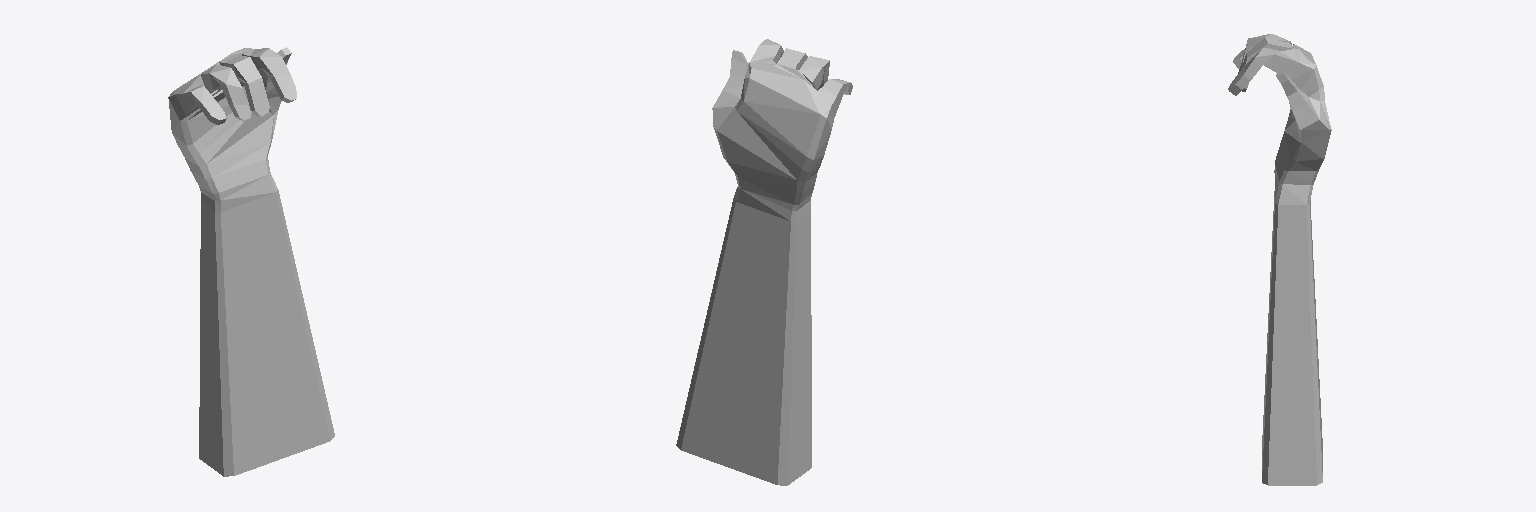
The model's file is hand_anim10.obj.
3 renders of one model, left to right at view 1: azimuth 30°, elevation 25°; view 2: azimuth 150°, elevation 25°; view 3: azimuth 270°, elevation 25°, orthographic.
Visible parts, largest first — view 1: Cube.001; view 2: Cube.001; view 3: Cube.001.
Boxes of the visible parts, box(x1,y1,x2,y2) form: Cube.001: box(168, 47, 334, 476); Cube.001: box(676, 39, 852, 485); Cube.001: box(1228, 34, 1331, 485).
Size of the model in its own units: 1.08 by 2.91 by 0.66.